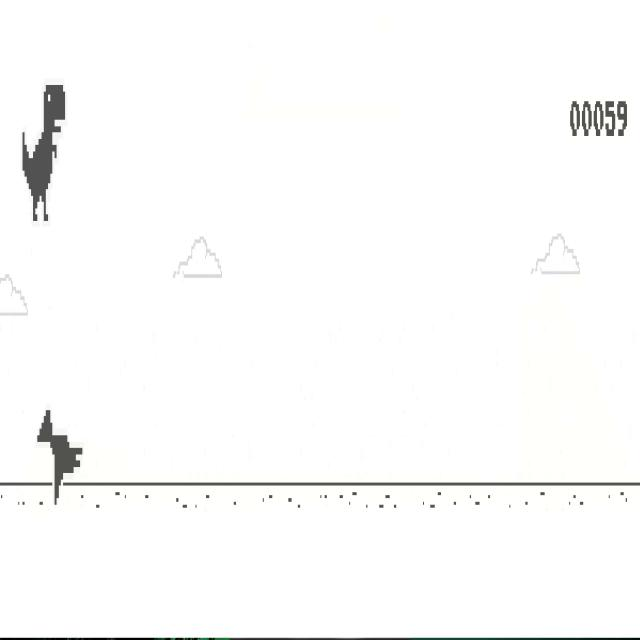dino: (23, 84, 66, 222)
ptero: (37, 409, 83, 506)
